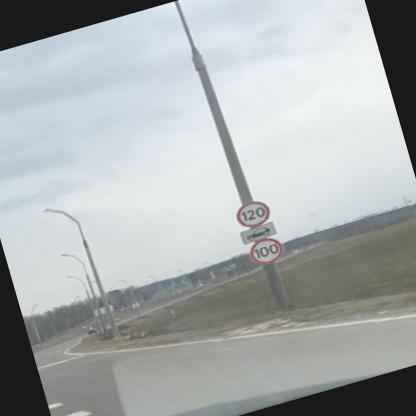speedlimit: (230, 196, 271, 230), (246, 234, 284, 268)
